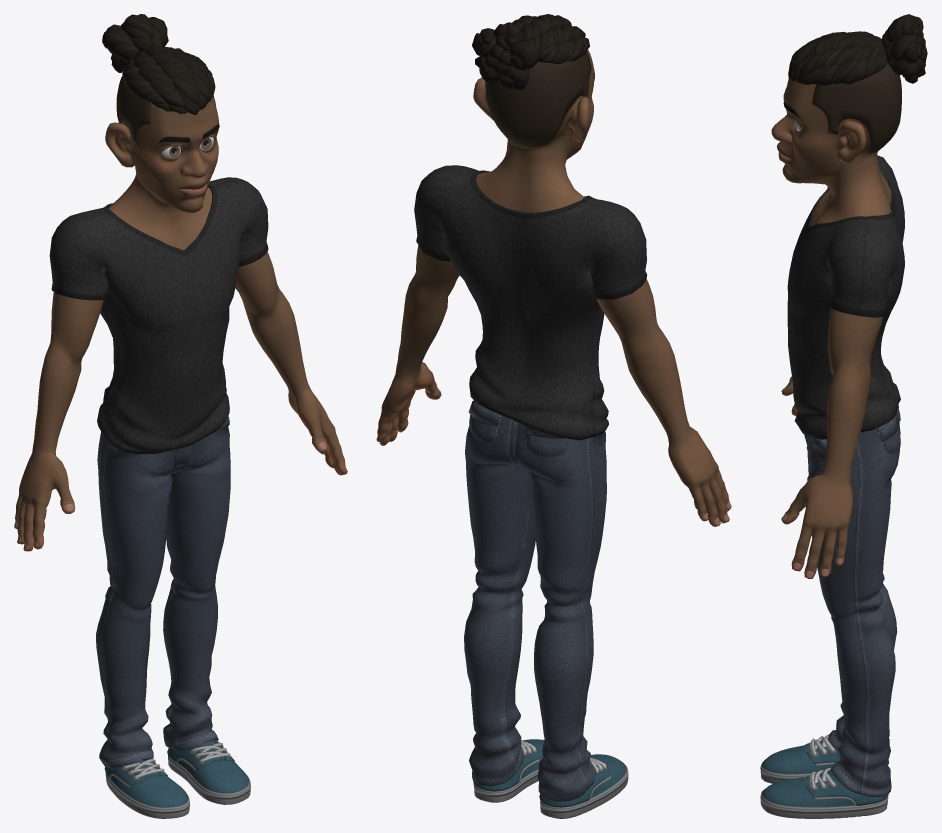
File: snow-v4-20261031.glb
The picture shows the model from 3 angles, left to right: view 1: azimuth 30°, elevation 25°; view 2: azimuth 150°, elevation 25°; view 3: azimuth 270°, elevation 25°; orthographic projection. The views are drawn at different scales.
Parts seen in each view (by area): view 1: GEO-snow-shirt-mobile, GEO-snow-pants-mobile, GEO-snow-body-mobile, GEO-snow-head-mobile, GEO-snow-hair_base-mobile, GEO-snow-shoes_base-mobile, GEO-snow-shoes_parts-mobile; view 2: GEO-snow-pants-mobile, GEO-snow-shirt-mobile, GEO-snow-body-mobile, GEO-snow-hair_base-mobile, GEO-snow-head-mobile, GEO-snow-shoes_base-mobile, GEO-snow-shoes_parts-mobile; view 3: GEO-snow-pants-mobile, GEO-snow-shirt-mobile, GEO-snow-body-mobile, GEO-snow-hair_base-mobile, GEO-snow-head-mobile, GEO-snow-shoes_base-mobile, GEO-snow-shoes_parts-mobile.
Part boxes in pixels (box(x1,y1,x2,y2)): GEO-snow-shirt-mobile: box(49, 177, 268, 453); GEO-snow-pants-mobile: box(96, 416, 230, 768); GEO-snow-body-mobile: box(14, 251, 347, 551); GEO-snow-head-mobile: box(105, 96, 219, 249); GEO-snow-hair_base-mobile: box(102, 14, 215, 146); GEO-snow-shoes_base-mobile: box(105, 740, 250, 818); GEO-snow-shoes_parts-mobile: box(104, 739, 234, 787); GEO-snow-pants-mobile: box(464, 400, 606, 801); GEO-snow-shirt-mobile: box(414, 165, 646, 440); GEO-snow-body-mobile: box(376, 245, 731, 526); GEO-snow-hair_base-mobile: box(472, 14, 591, 148); GEO-snow-head-mobile: box(473, 49, 594, 212); GEO-snow-shoes_base-mobile: box(473, 739, 628, 818); GEO-snow-shoes_parts-mobile: box(473, 740, 611, 807); GEO-snow-pants-mobile: box(804, 405, 900, 796); GEO-snow-shirt-mobile: box(787, 155, 904, 439); GEO-snow-body-mobile: box(781, 308, 882, 578); GEO-snow-hair_base-mobile: box(788, 14, 927, 153); GEO-snow-head-mobile: box(771, 79, 891, 225); GEO-snow-shoes_base-mobile: box(760, 738, 888, 818); GEO-snow-shoes_parts-mobile: box(805, 734, 888, 805).
Size of the model in its own units: 0.8102 by 1.8 by 0.3522.
16 materials, 8 textured.
